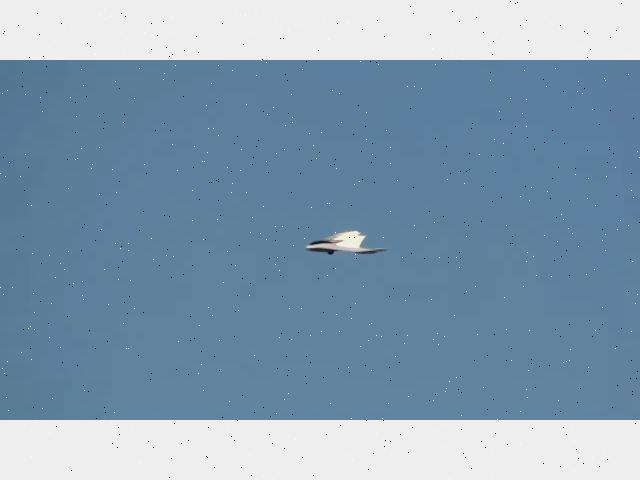Anti-Drone: (306, 230, 388, 254)
